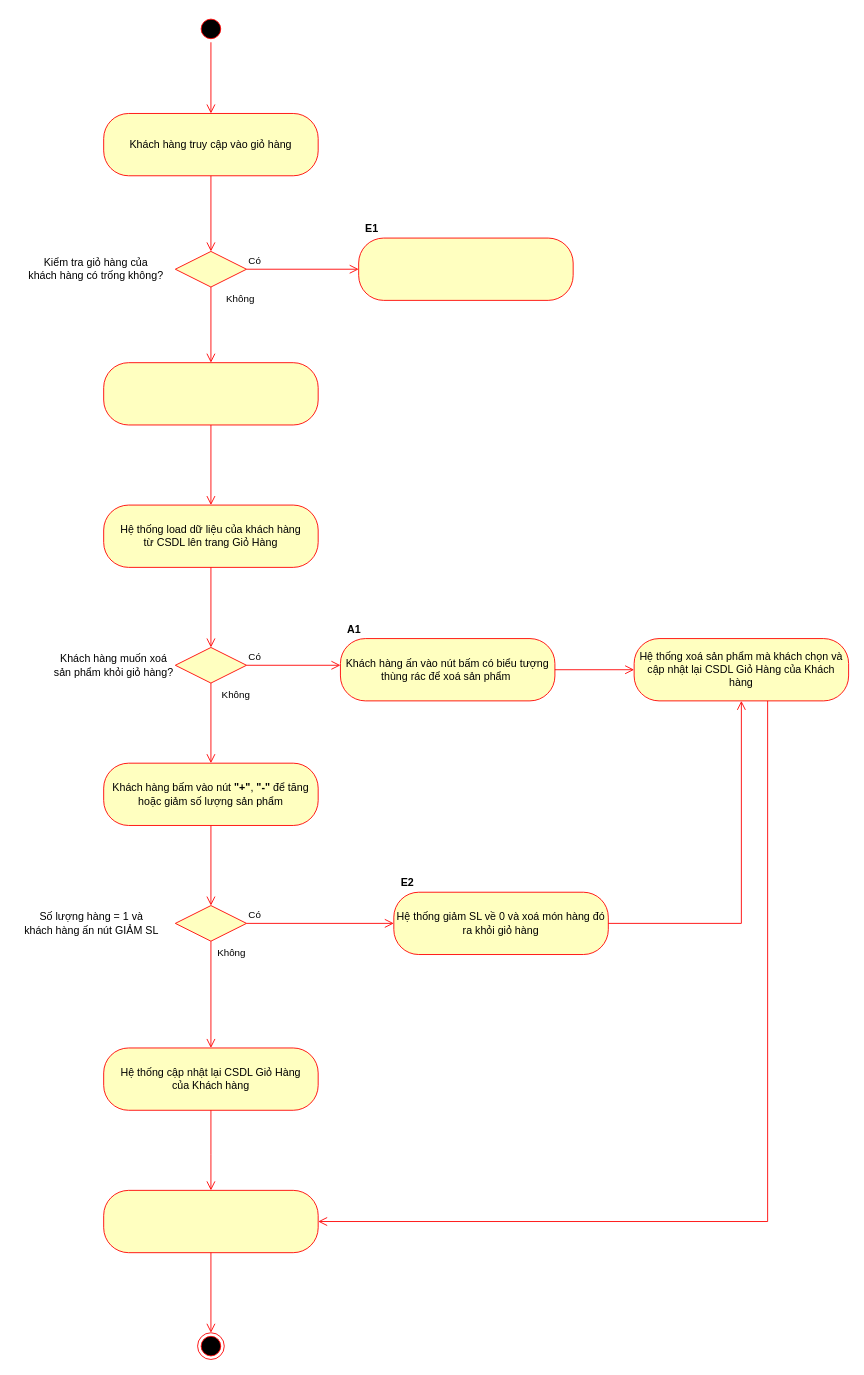
Some shapes in this 864 by 1375 pixel diagram are drawn without their labels. Here are the shapes that lost their labels. From the top down, the centre of each, then its label:
At point (465, 268): "Hiển thị thông báo giỏ hàng trống lên màn hình".
At point (210, 393): "Chuyển hướng đến trang Giỏ Hàng".
At point (210, 1221): "Hệ thống hiển thị số lượng mới của sản phẩm trong giỏ hàng".
